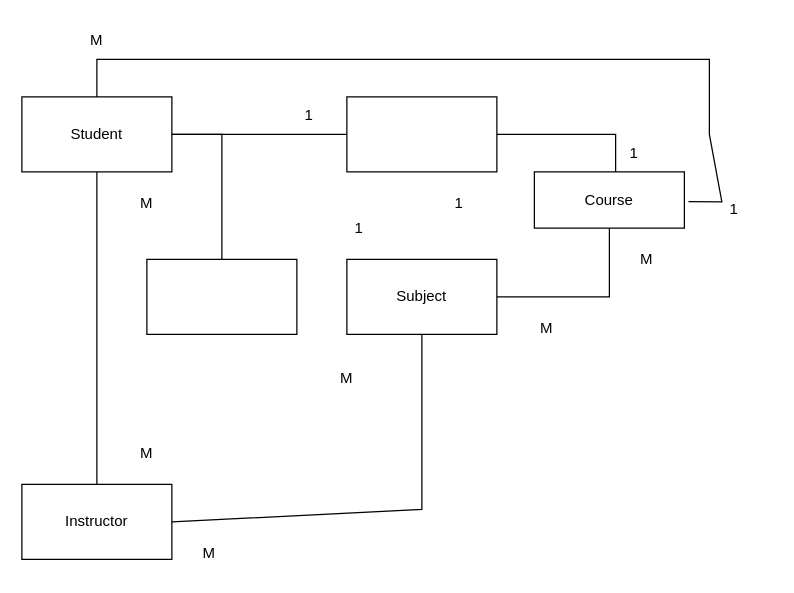
Some shapes in this 794 by 593 pixel diagram are drawn without their labels. Each missing label, with the centre of its shape:
"Class Section" goes at point (421, 134).
"Payment History" goes at point (221, 296).
